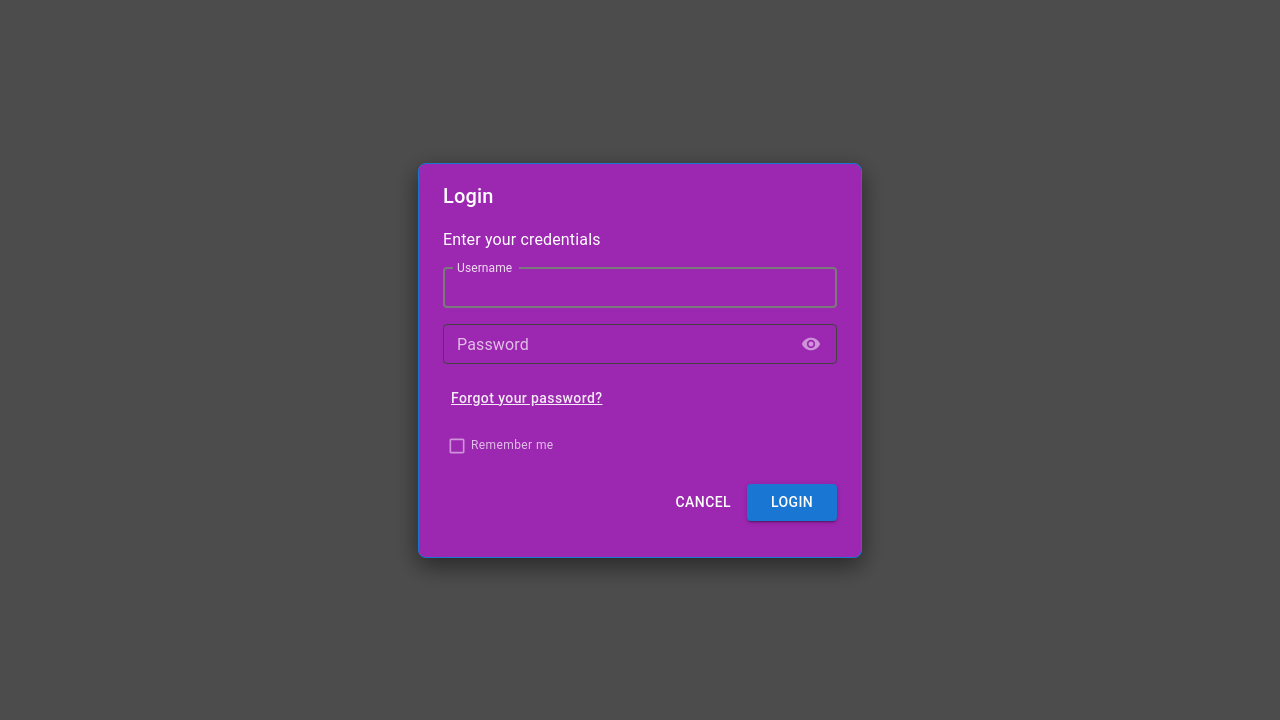
LoginModal — input purpose (#81) › reveals and hides the password without submitting or replacing the value
Type "visibility test value" into the password field labelled "Password" at (616, 344), box [443,324,788,364]
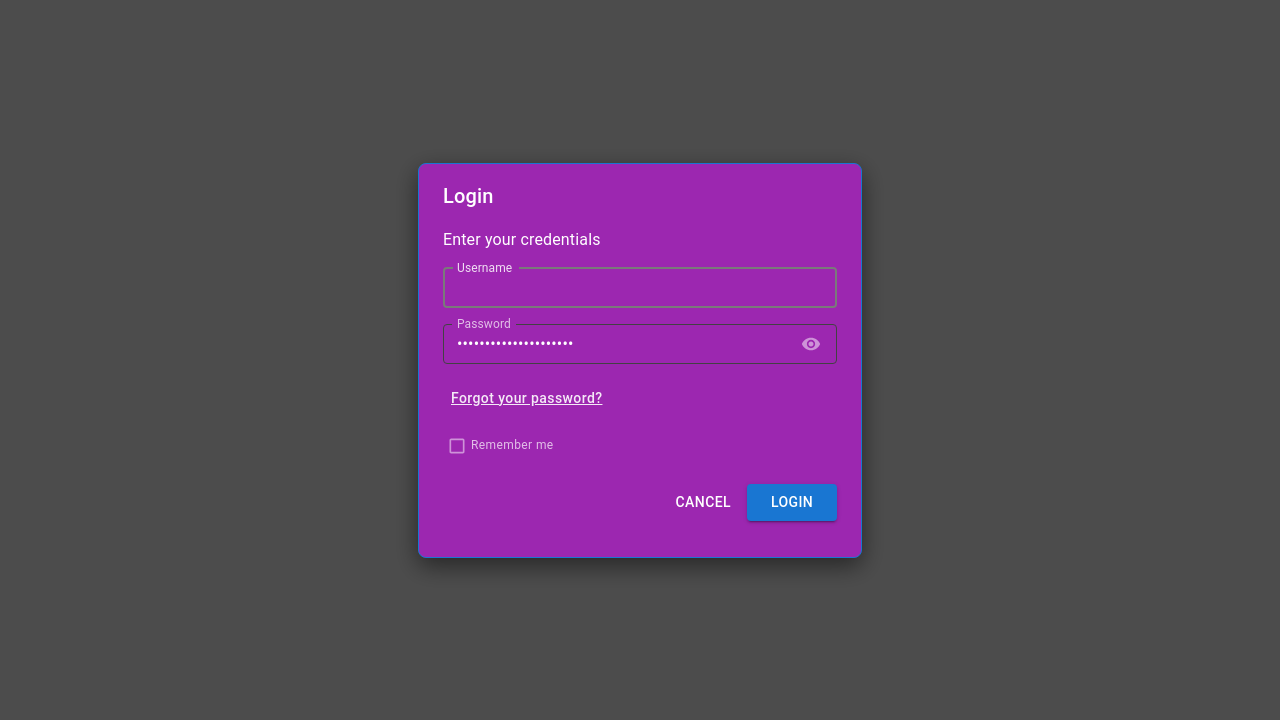
Press the mouse on the button named "Show password" at (811, 344), box [796,328,826,358]
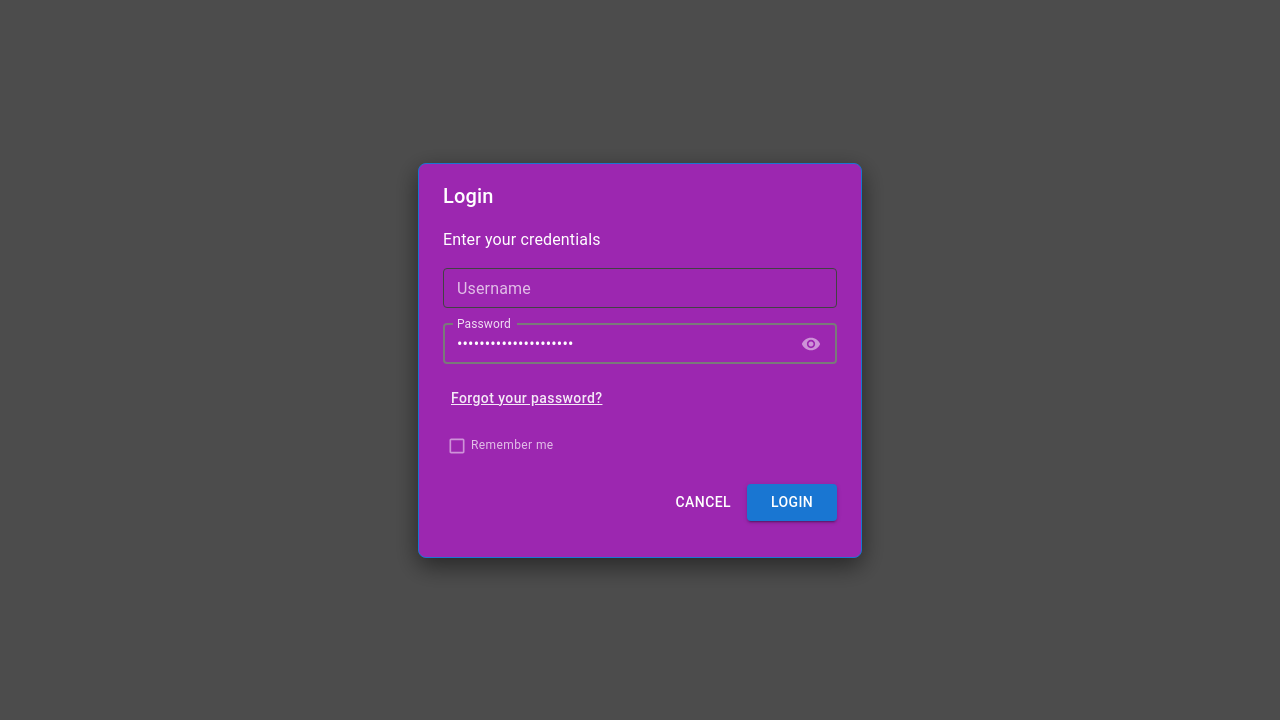
Click the button named "Show password" at (811, 344), box [796,328,826,358]
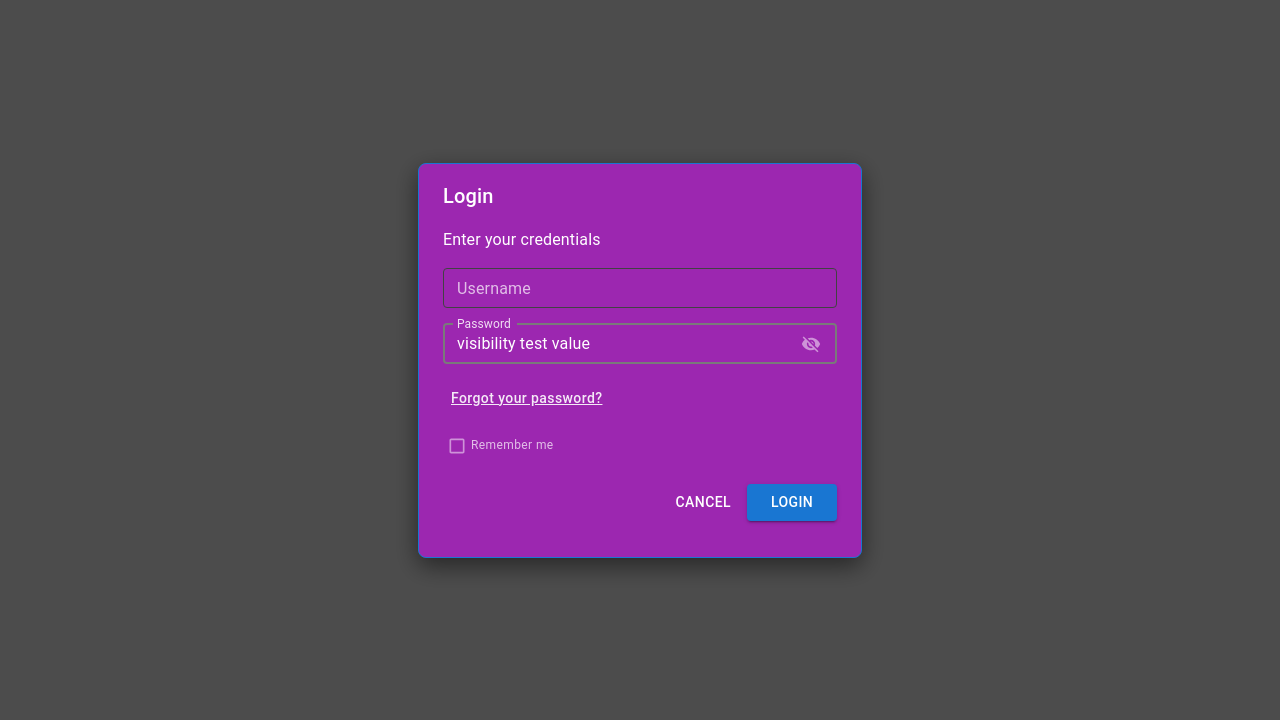
Expected: the field labelled "Password" shows its text, [443,324,788,364]
Click the button named "Hide password" at (811, 344), box [796,328,826,358]
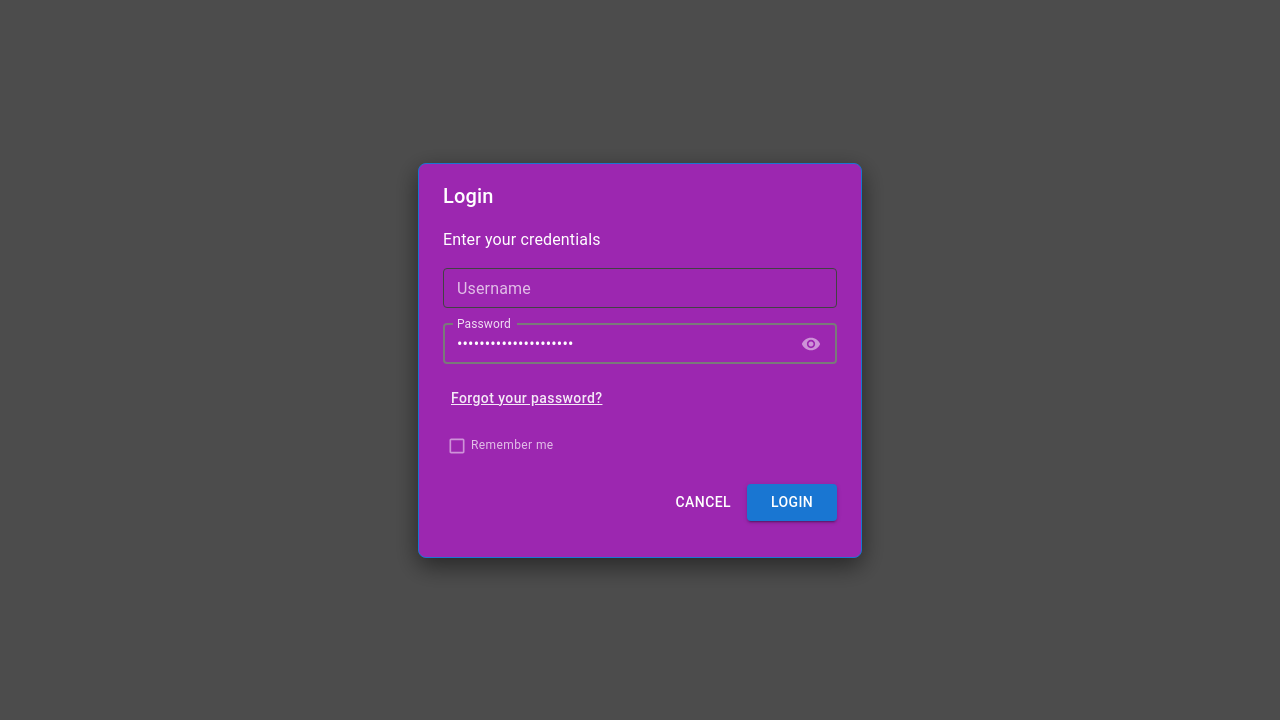
Expected: the password field showing "visibility test value" hides its text, [443,324,788,364]
